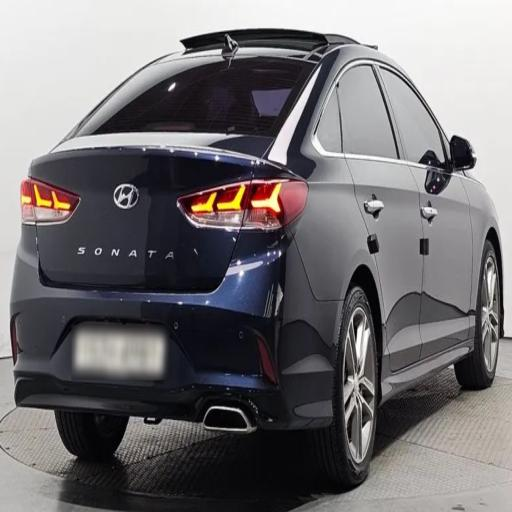.: (11, 16, 509, 481)
